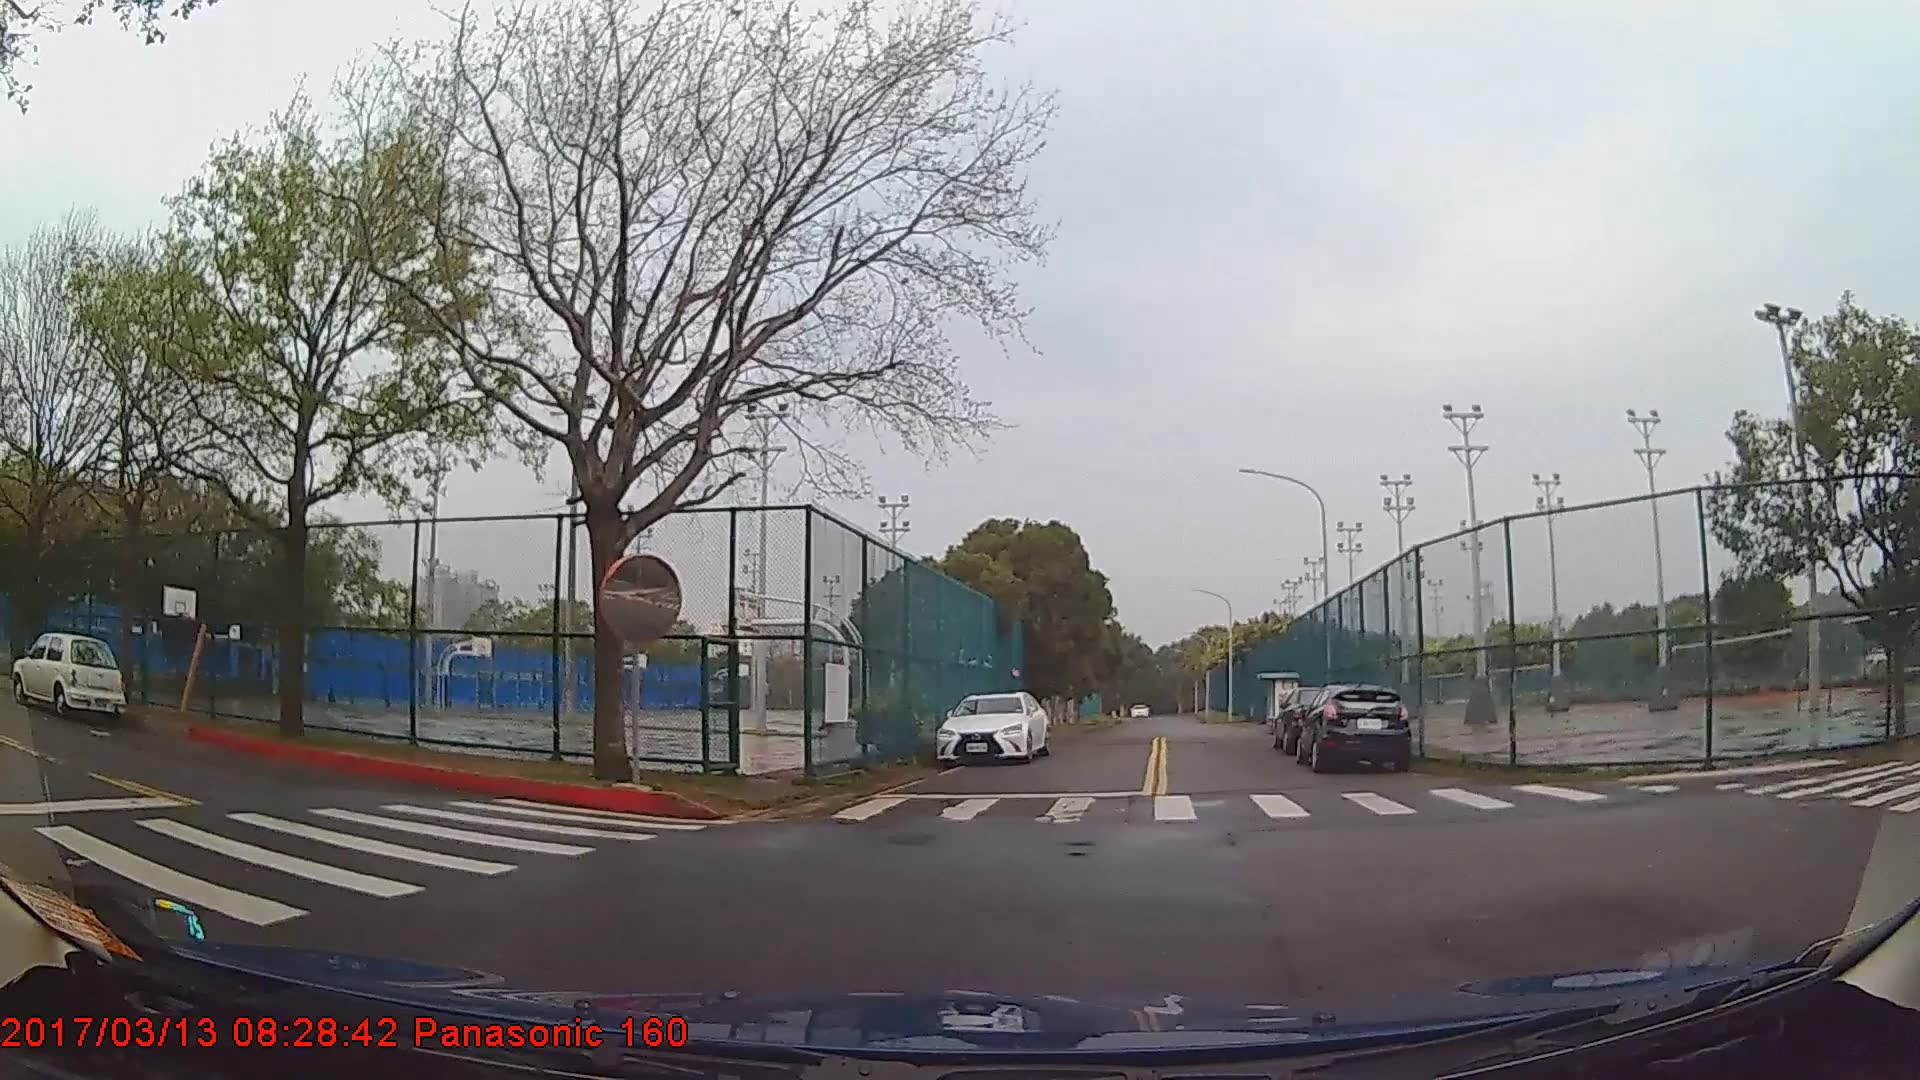vehicle: (9, 630, 129, 721), (1298, 680, 1415, 771), (940, 688, 1052, 765)
